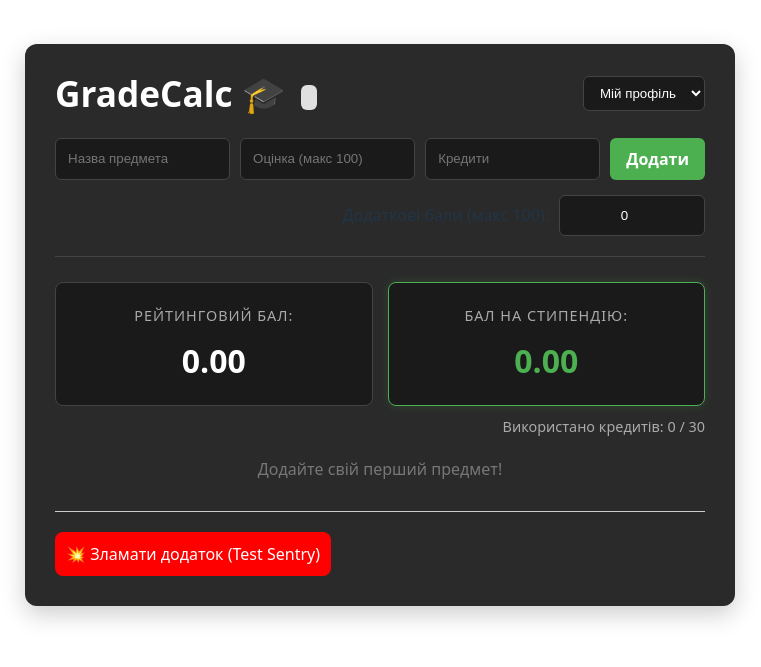
Test: GradeCalc Unit Tests › 3. Успішно додає новий предмет у список
Type "Математика" into the field with placeholder "Назва предмета" at (143, 158), box [55, 138, 230, 180]
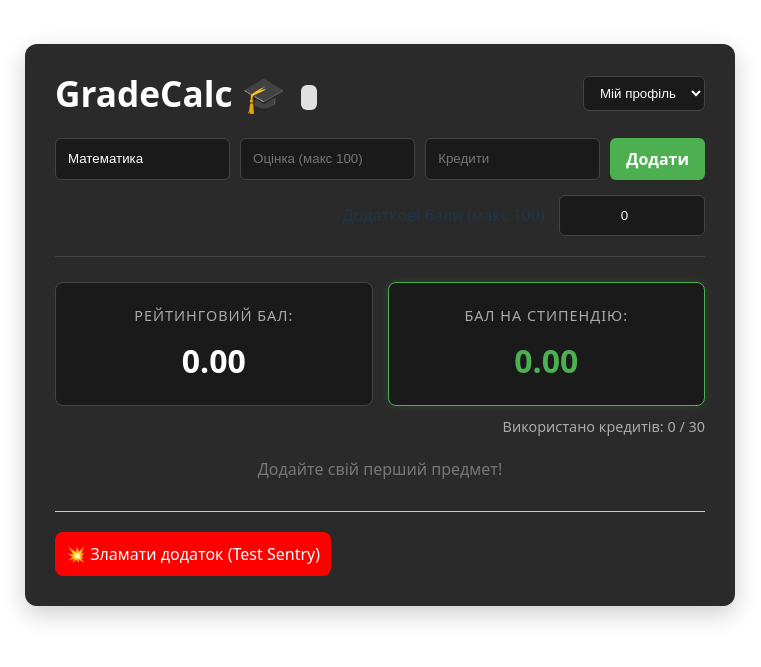
Type "95" into the number field with placeholder "Оцінка (макс 100)" at (328, 158), box [240, 138, 415, 180]
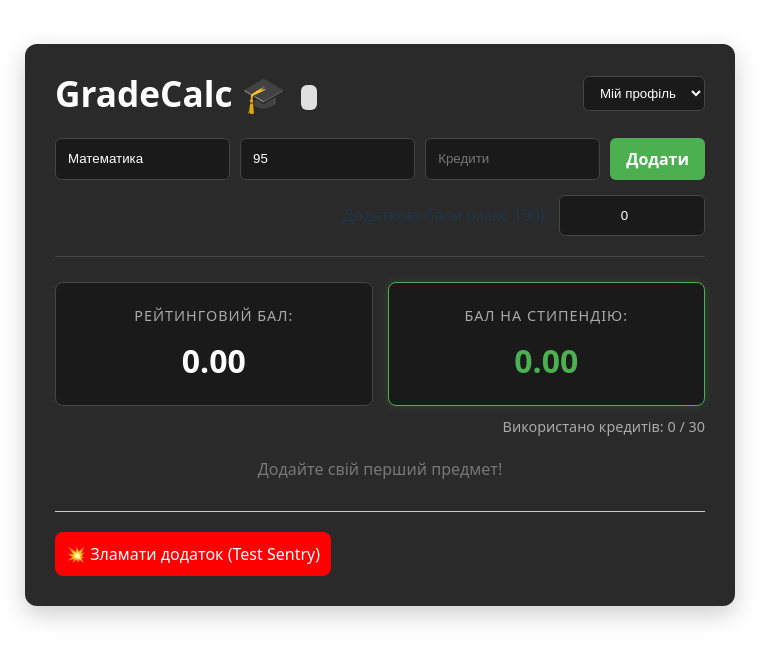
Type "5" into the number field with placeholder "Кредити" at (513, 158), box [425, 138, 600, 180]
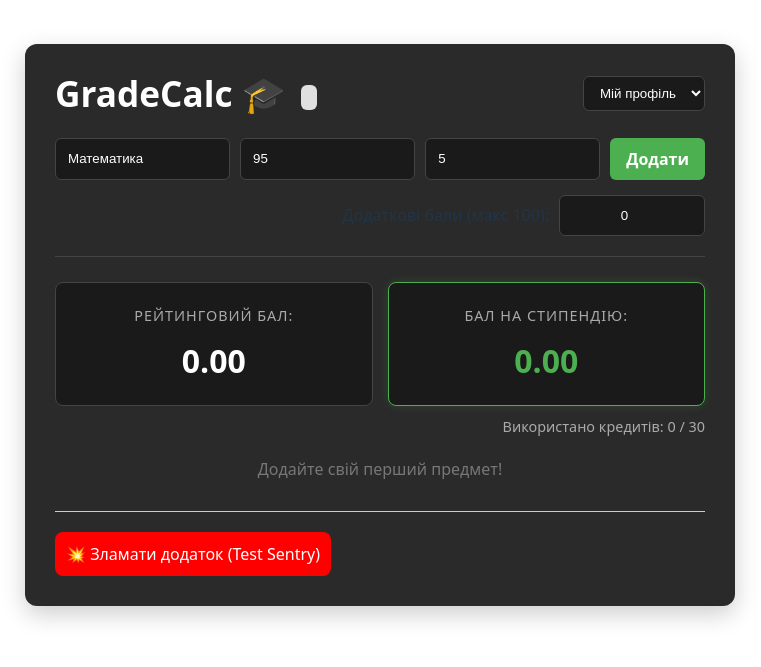
Click the button "Додати" at (658, 158), box [610, 138, 705, 180]
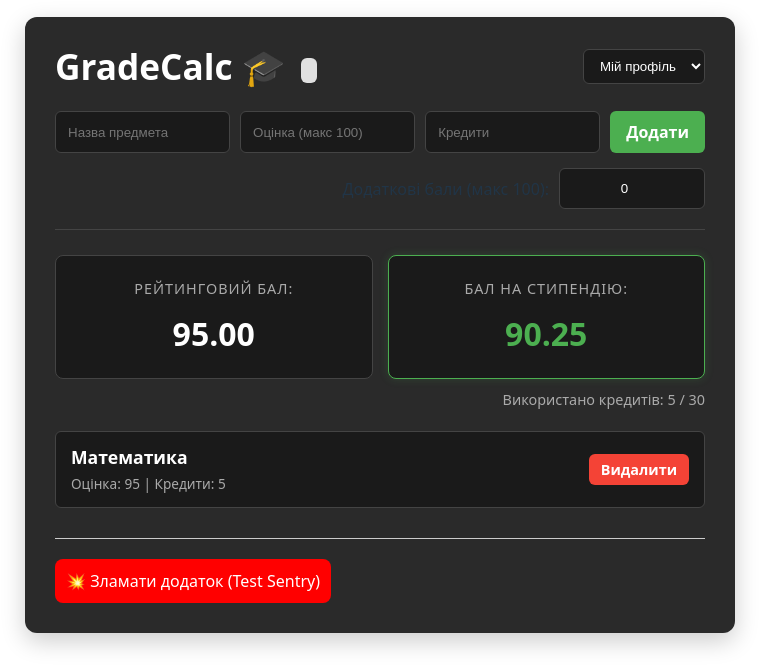
Now the text "Математика" is shown, box [71, 445, 188, 469]
Now the text "Оцінка: 95 | Кредити: 5" is shown, box [71, 474, 226, 495]
